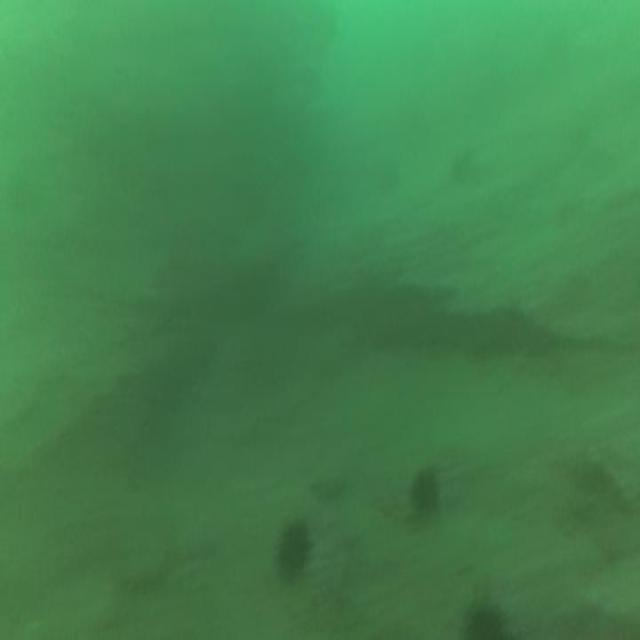echinus: (273, 515, 313, 582), (467, 596, 509, 640), (410, 462, 440, 514), (446, 142, 474, 193)
